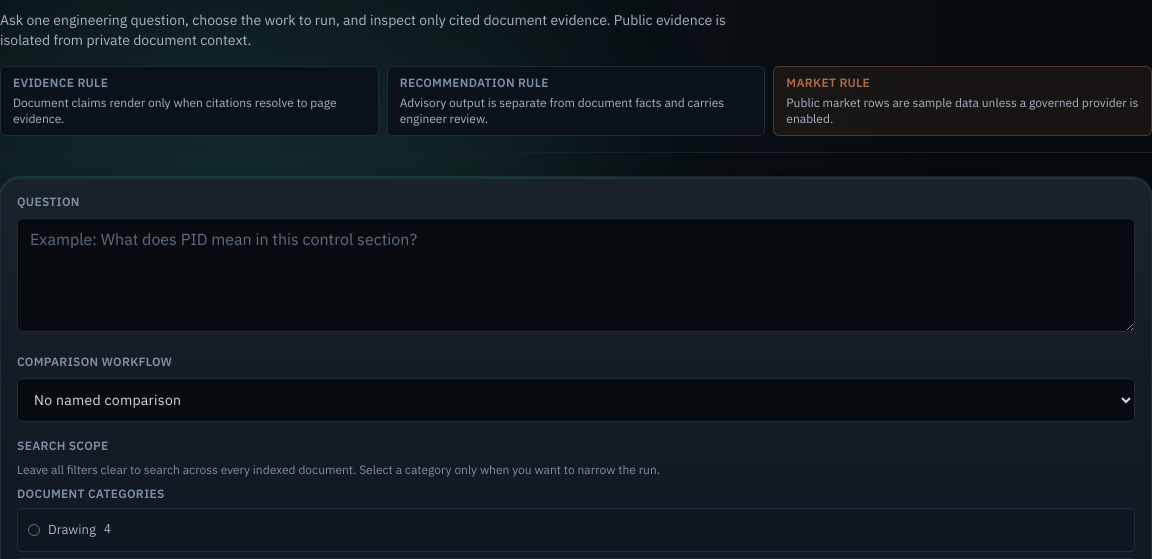
Test: AnalysisModeScreen: an empty result under an active filter explains why › says the filter narrowed the search, not that the documents are silent
Click the checkbox labelled "Drawing 4": (72, 530) [17,508,1135,552]
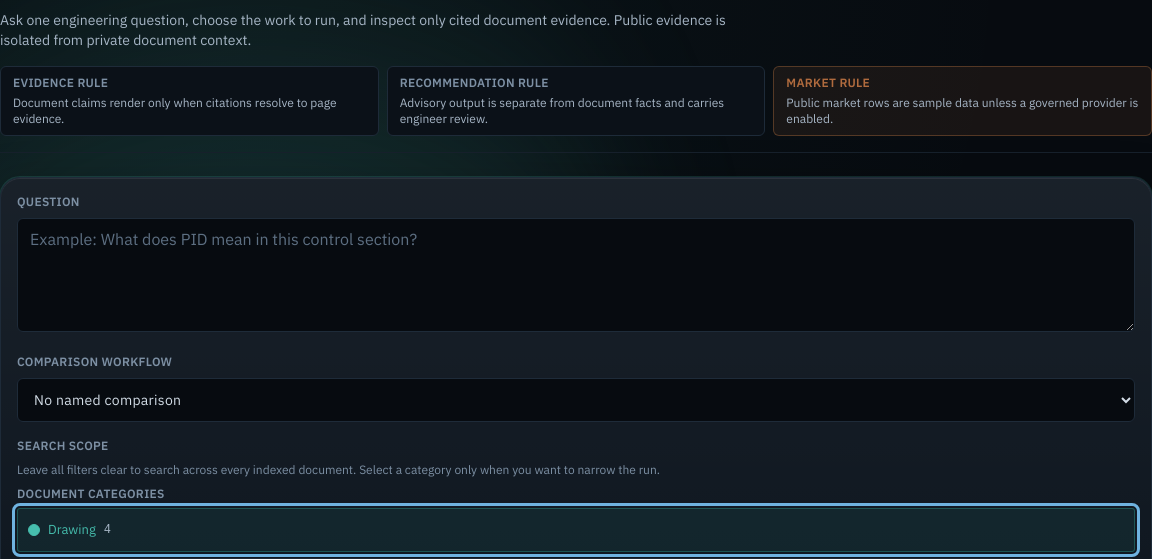
In the text box labelled "Question": (576, 275) [17,218,1135,332], type "what is the pressure floor"
(page scrolled)
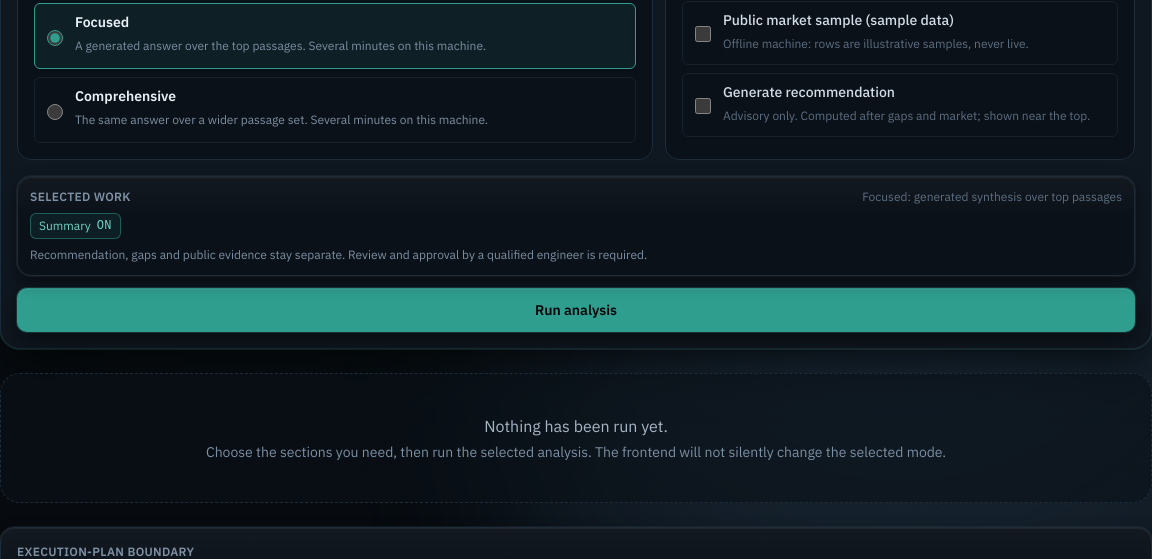
Click the button "Run analysis": (576, 310) [17,288,1135,332]
(page scrolled)
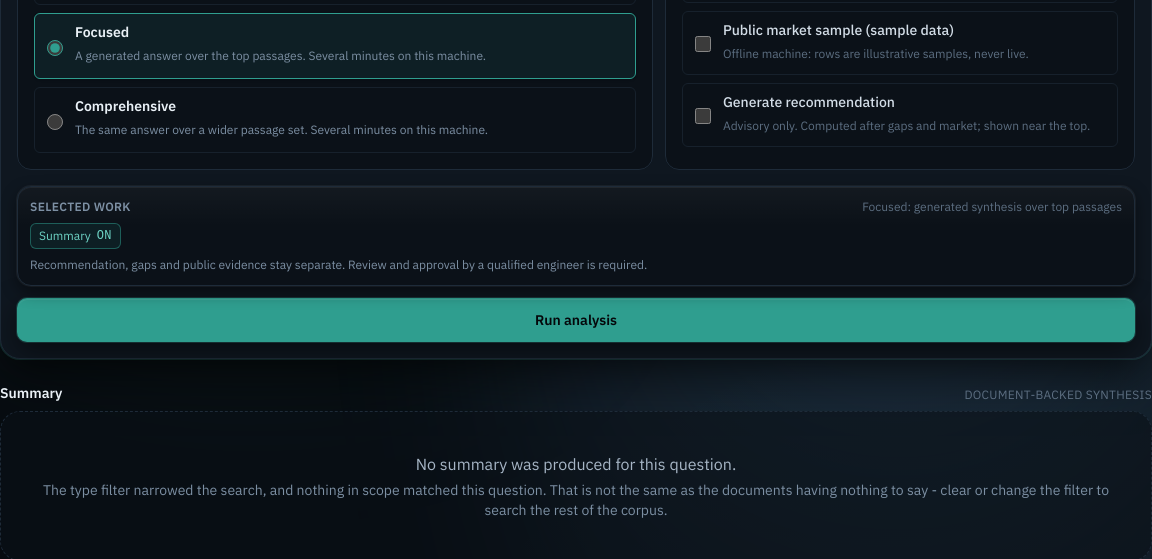
Result: the text "The type filter narrowed the search, and nothing in scope matched" is shown at [43,481,1109,519]
